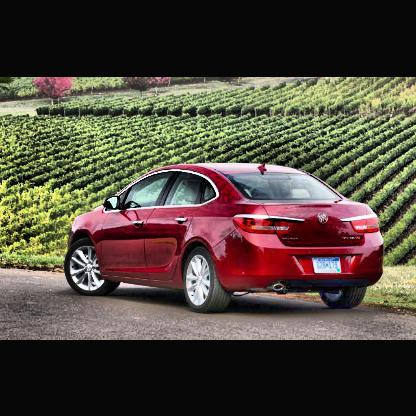Buick Verano Sedan 2012: (65, 163, 386, 315)
